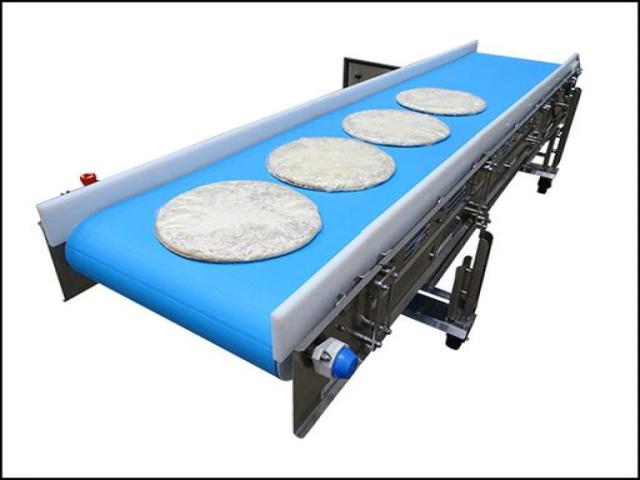conveyor: (38, 42, 610, 390)
